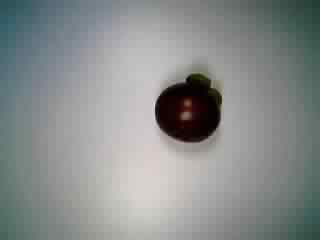mangosteen: (150, 69, 227, 144)
